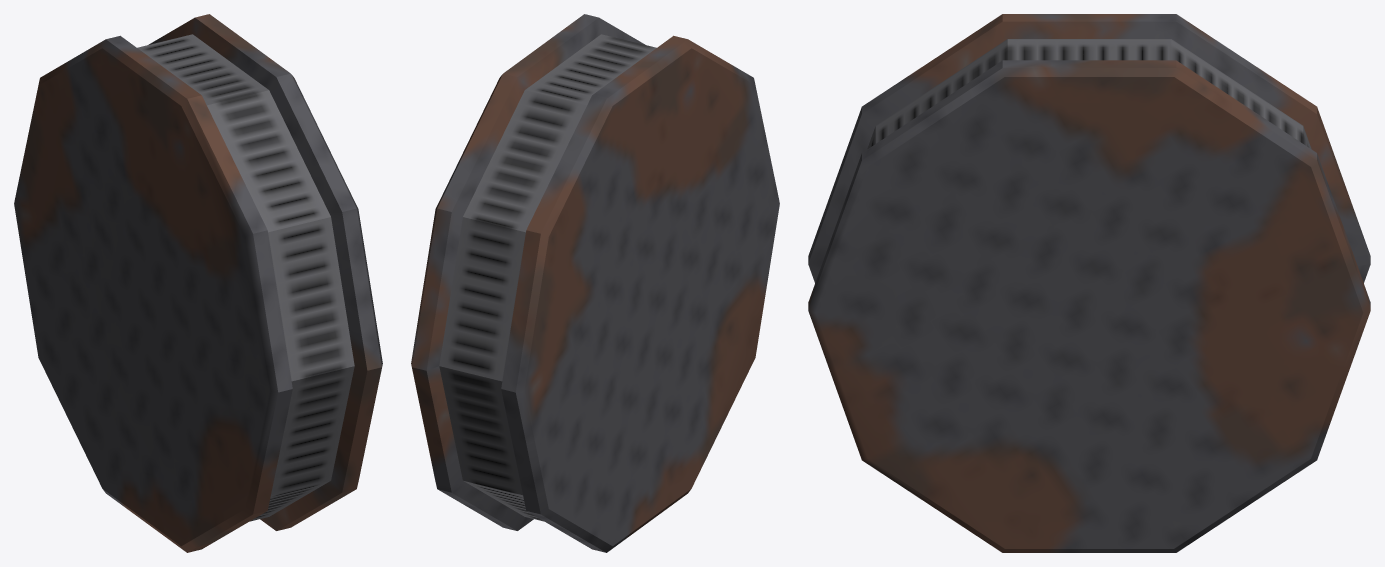
File: SM_Prop_Pipe_Attatchment_Circle_Base_01.fbx
The picture shows the model from 3 angles, left to right: view 1: azimuth 30°, elevation 25°; view 2: azimuth 150°, elevation 25°; view 3: azimuth 270°, elevation 25°; orthographic projection. The views are drawn at different scales.
Parts seen in each view (by area): view 1: SM_Prop_Pipe_Attatchment_Circle_Base_01; view 2: SM_Prop_Pipe_Attatchment_Circle_Base_01; view 3: SM_Prop_Pipe_Attatchment_Circle_Base_01.
Part boxes in pixels (x1,y1,x2,y2): SM_Prop_Pipe_Attatchment_Circle_Base_01: [14, 14, 382, 552]; SM_Prop_Pipe_Attatchment_Circle_Base_01: [411, 14, 779, 552]; SM_Prop_Pipe_Attatchment_Circle_Base_01: [808, 14, 1370, 552].
Bounding box in the file's own units: 34.29 × 132 × 139.
